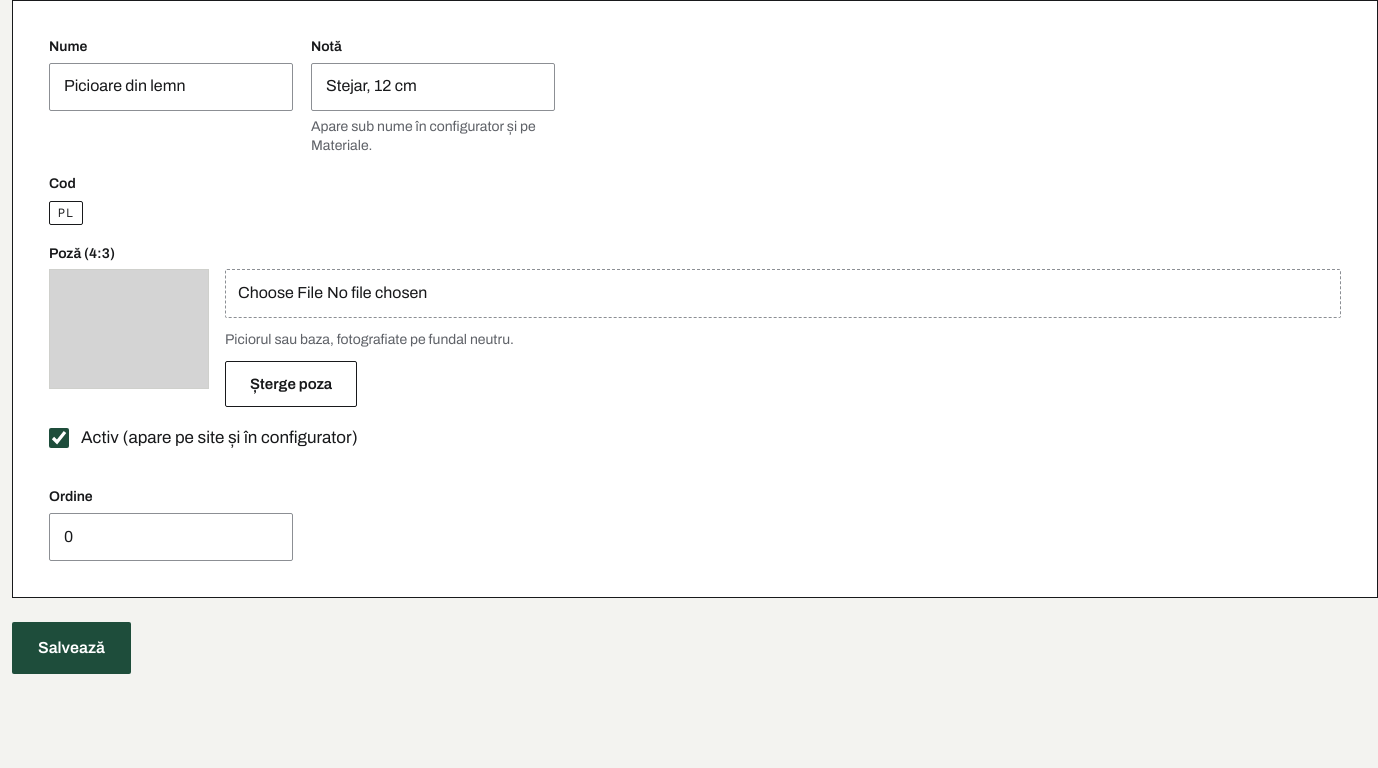
Test: BaseForm › posts the id, the texts, the flags and the photo path to the action, and shows the saved notice
Replace the text in the field labelled "Notă" with "Stejar, 14 cm" at [433, 87], box [311,63,555,111]
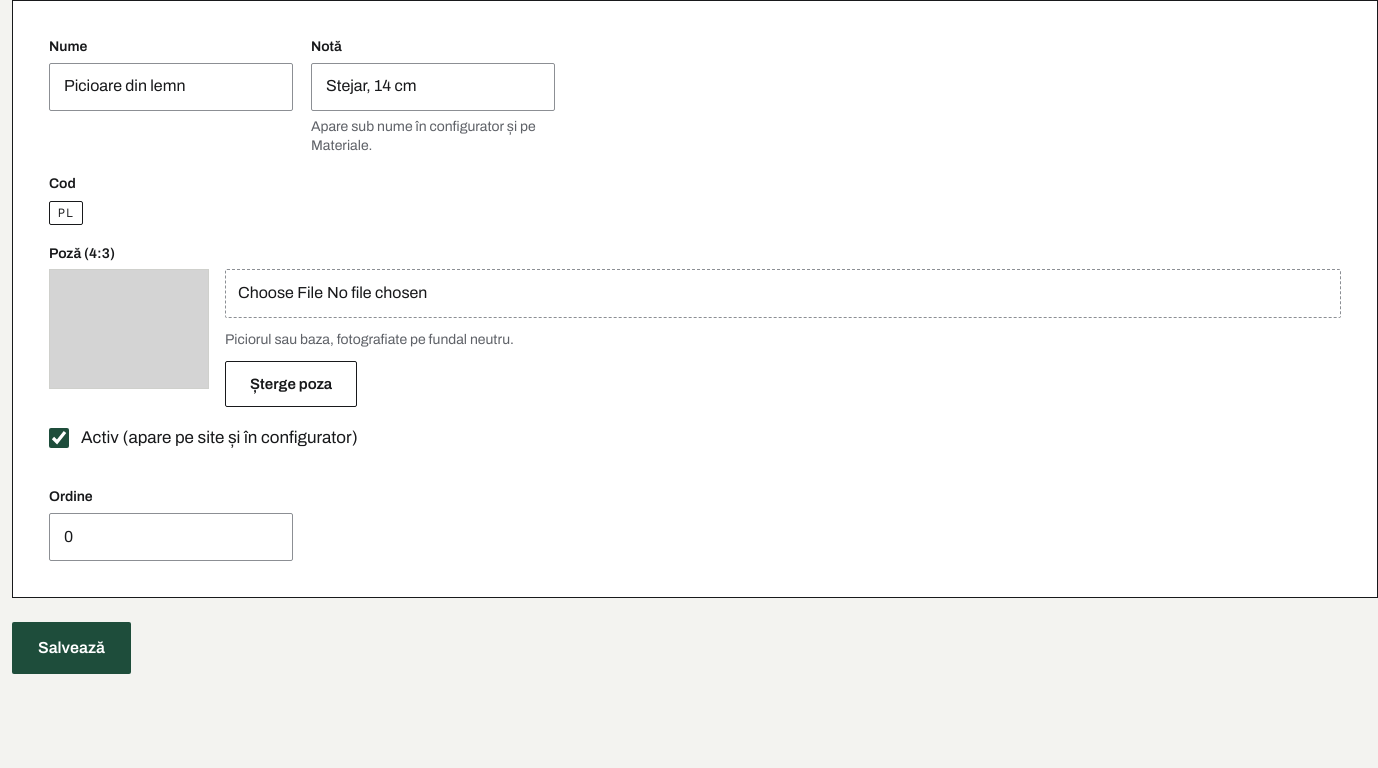
Click the checkbox labelled "Activ (apare pe site și în configurator)" at [59, 438], box [49,428,69,448]
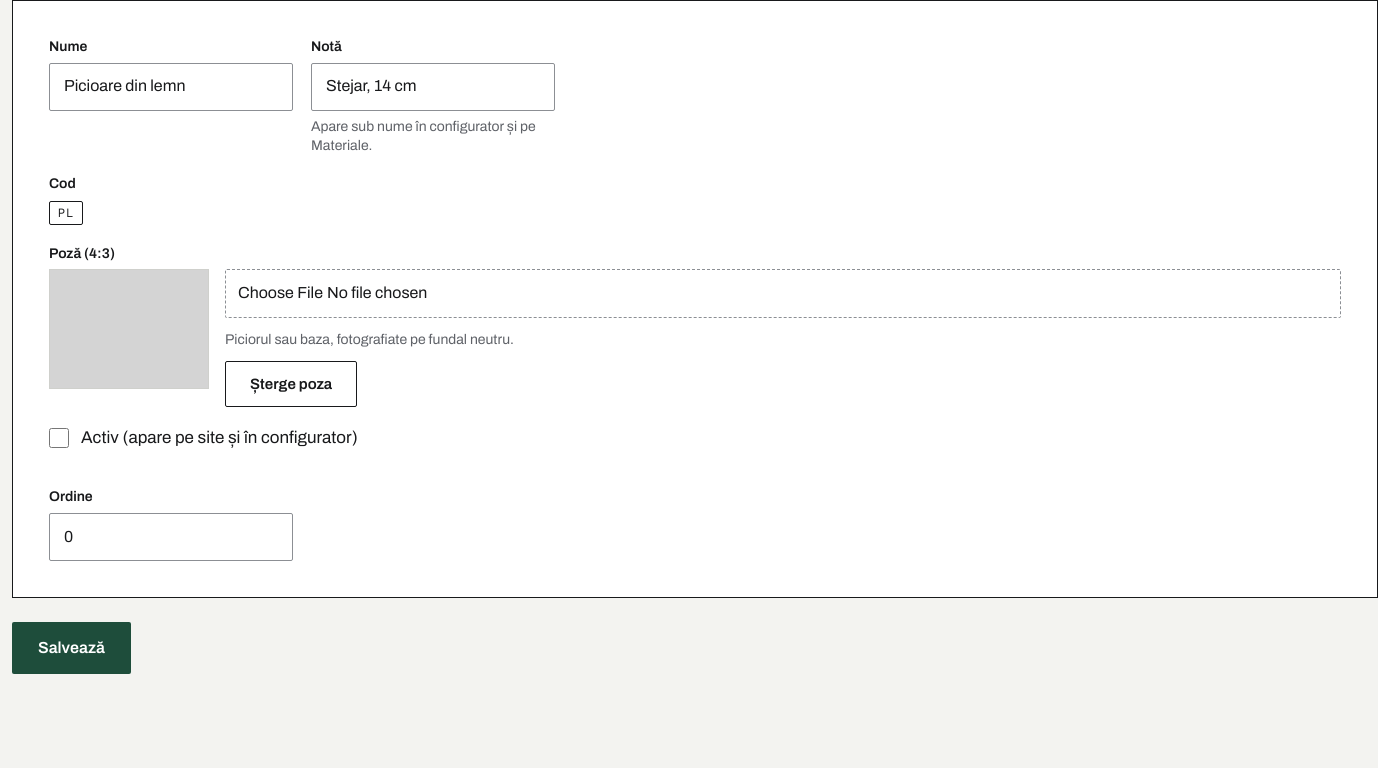
Replace the text in the number field labelled "Ordine" with "3" at [171, 537], box [49,513,293,561]
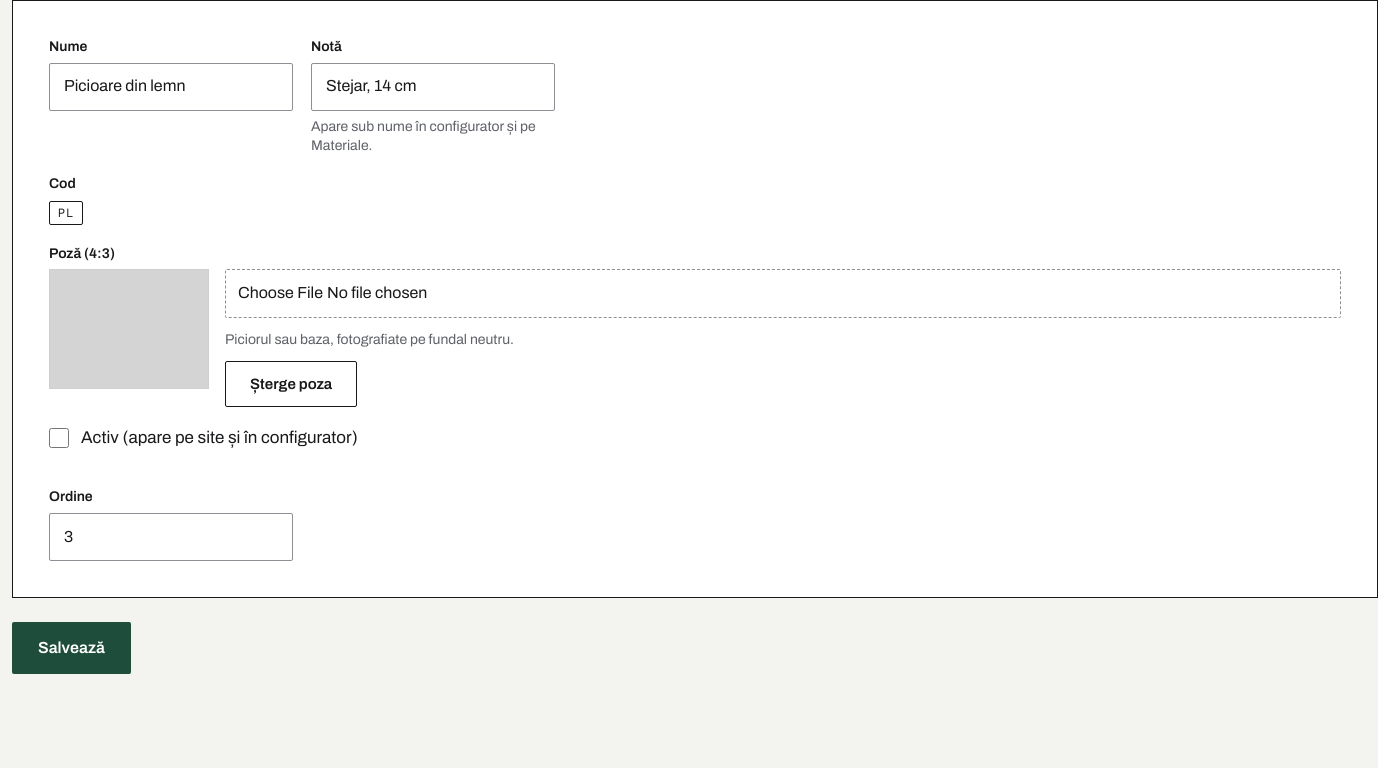
Click the button "Salvează" at [72, 648], box [12,622,131,674]
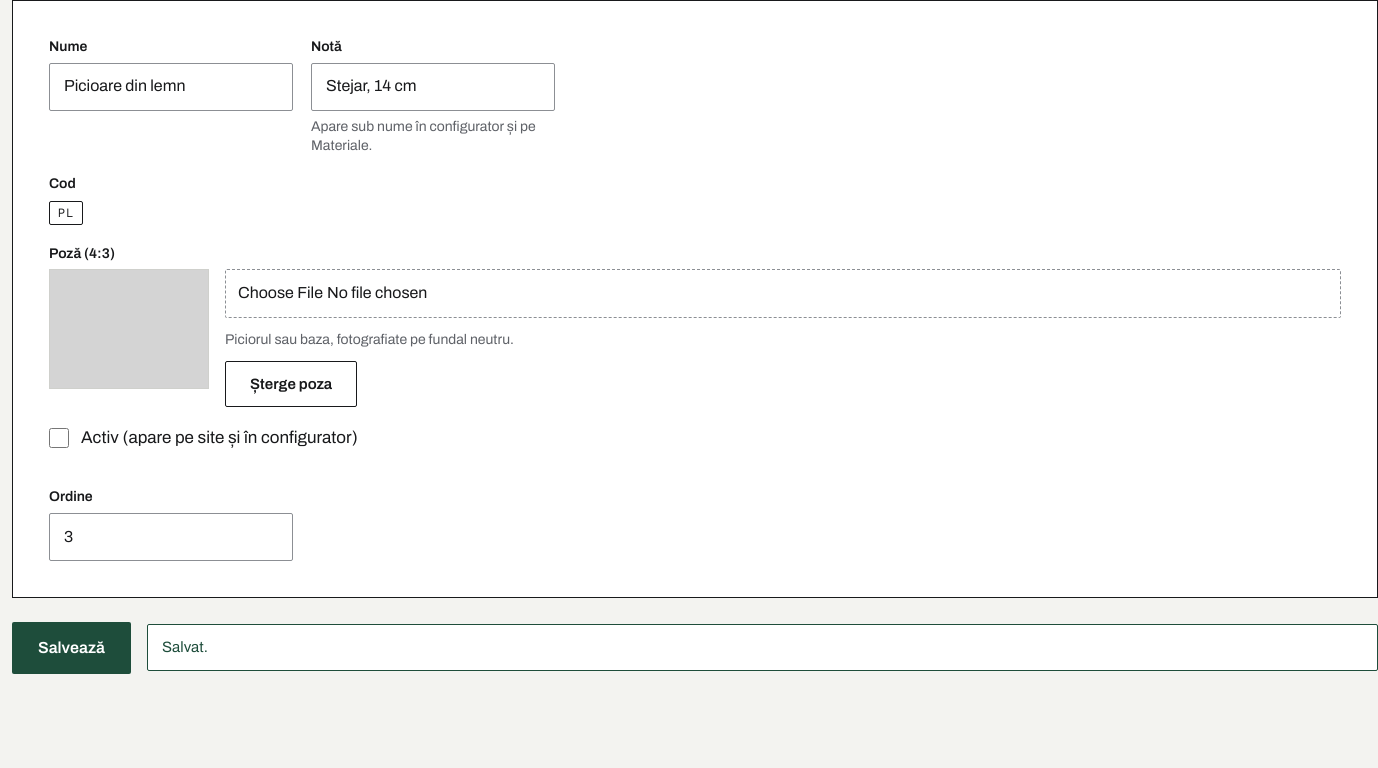
Expected: the message reads "Salvat.", [162,639,208,655]
